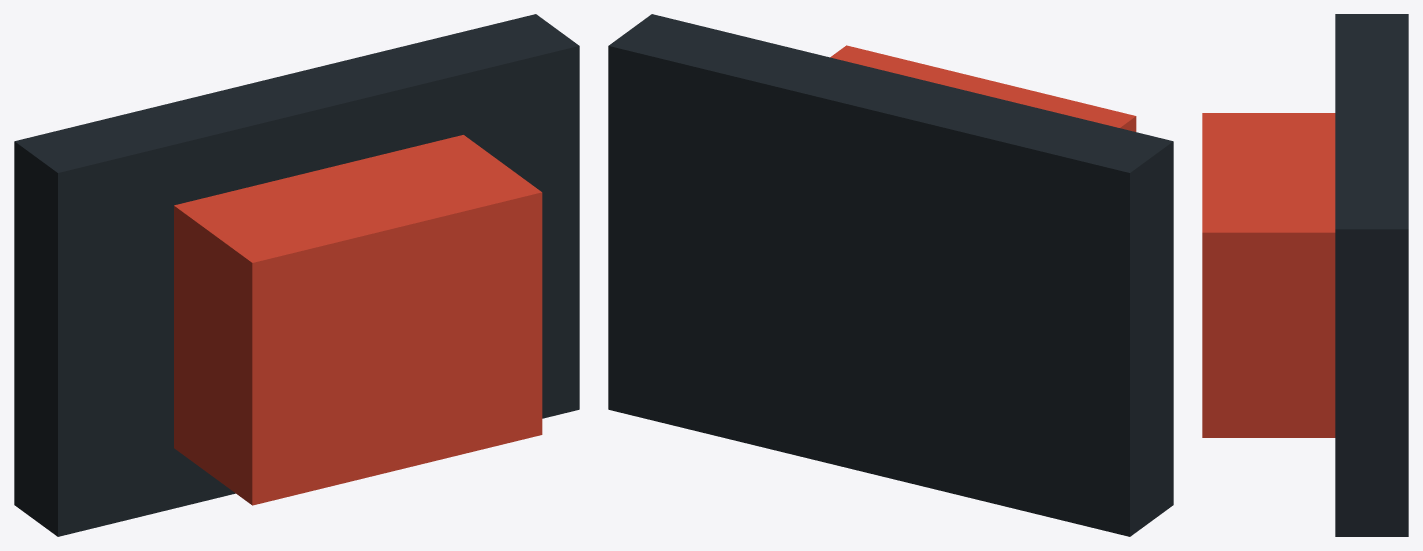
The picture shows the model from 3 angles, left to right: view 1: azimuth 30°, elevation 25°; view 2: azimuth 150°, elevation 25°; view 3: azimuth 270°, elevation 25°; orthographic projection. The views are drawn at different scales.
Parts seen in each view (by area): view 1: W109; view 2: W109; view 3: W109.
Part boxes in pixels (x1,y1,x2,y2): W109: [14, 14, 579, 536]; W109: [608, 14, 1173, 536]; W109: [1202, 14, 1408, 536].
Bounding box in the file's own units: 0.009 × 0.006 × 0.00365.
